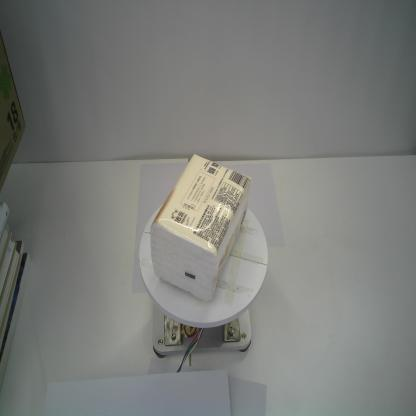Tissue: (149, 152, 254, 302)
